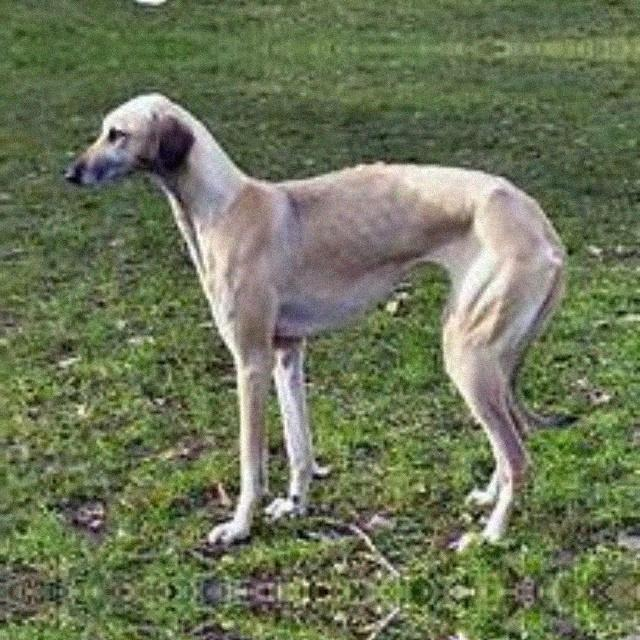dog: (61, 97, 587, 591), (61, 591, 587, 640)
